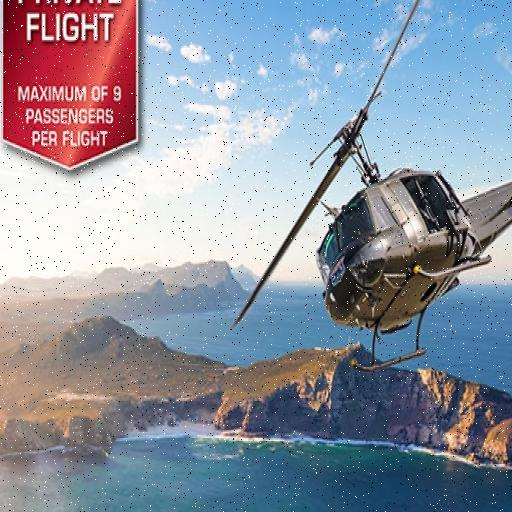helicopter: (231, 1, 512, 385)
